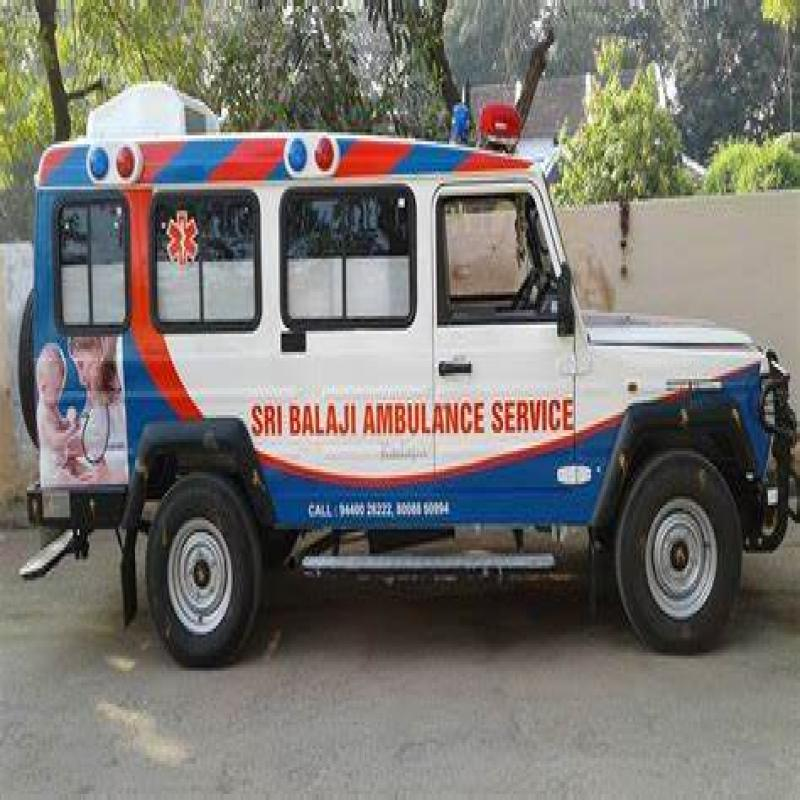AmbulanceSiren: (419, 90, 525, 174)
